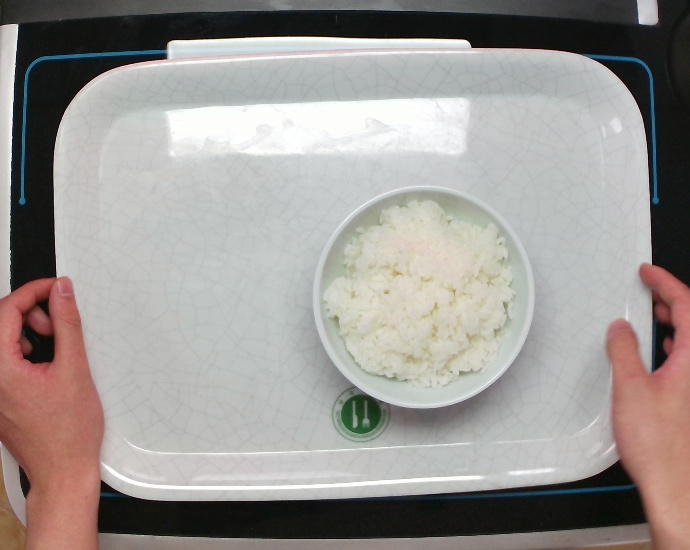JYsf-Fan_Wan: (308, 181, 537, 412)
